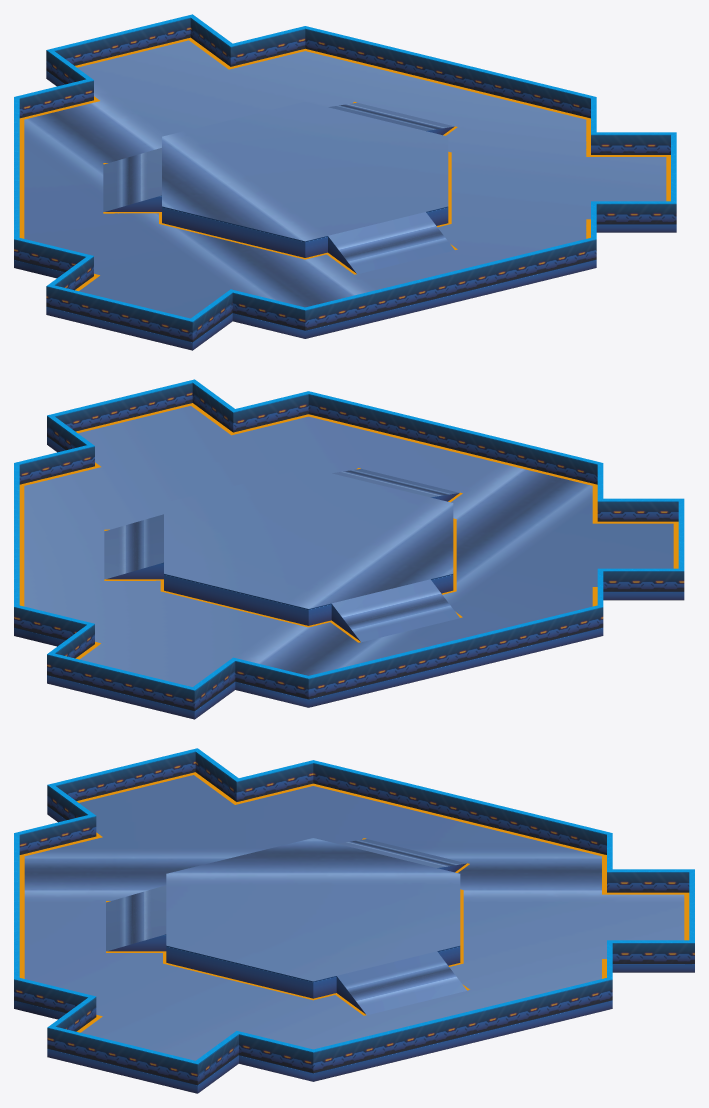
The model's file is Battle_Stage 30.fbx.
3 renders of one model, top to bottom at view 1: azimuth 30°, elevation 25°; view 2: azimuth 150°, elevation 25°; view 3: azimuth 270°, elevation 25°, orthographic. The views are drawn at different scales.
Visible parts, largest first — view 1: Cylinder_072, Cylinder_072.001, Cylinder_072.002, Cylinder_072.003; view 2: Cylinder_072, Cylinder_072.001, Cylinder_072.002, Cylinder_072.003; view 3: Cylinder_072, Cylinder_072.001, Cylinder_072.002, Cylinder_072.003.
Boxes of the visible parts, x1,y1,x2,y2 form: Cylinder_072: (14, 40, 676, 350); Cylinder_072.001: (14, 14, 676, 341); Cylinder_072.002: (19, 37, 670, 291); Cylinder_072.003: (103, 102, 457, 274); Cylinder_072: (14, 406, 684, 719); Cylinder_072.001: (14, 379, 684, 710); Cylinder_072.002: (19, 403, 678, 659); Cylinder_072.003: (104, 468, 462, 642); Cylinder_072: (14, 775, 694, 1093); Cylinder_072.001: (14, 748, 694, 1084); Cylinder_072.002: (19, 772, 689, 1032); Cylinder_072.003: (106, 838, 469, 1015).
Size of the model in its own units: 7791 by 341 by 7095.
